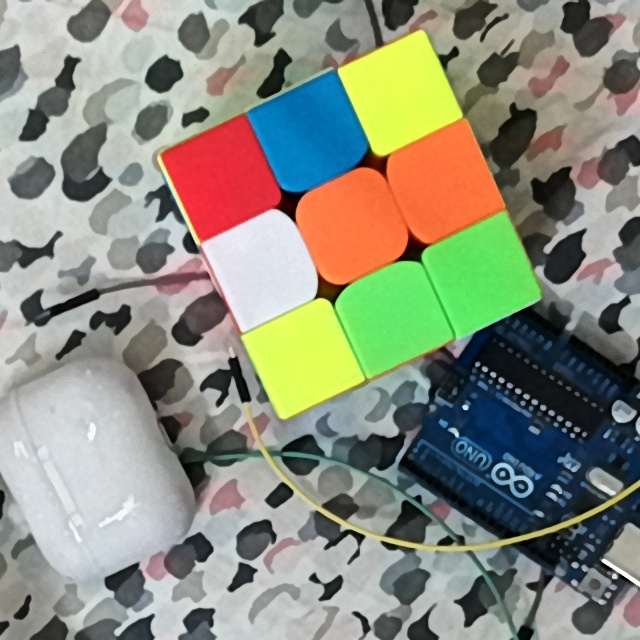tile: (409, 147, 479, 220), (316, 190, 386, 261), (448, 241, 519, 309), (274, 99, 344, 165), (230, 232, 296, 302), (185, 145, 253, 212), (361, 281, 428, 347), (366, 60, 432, 125), (269, 324, 337, 387)
